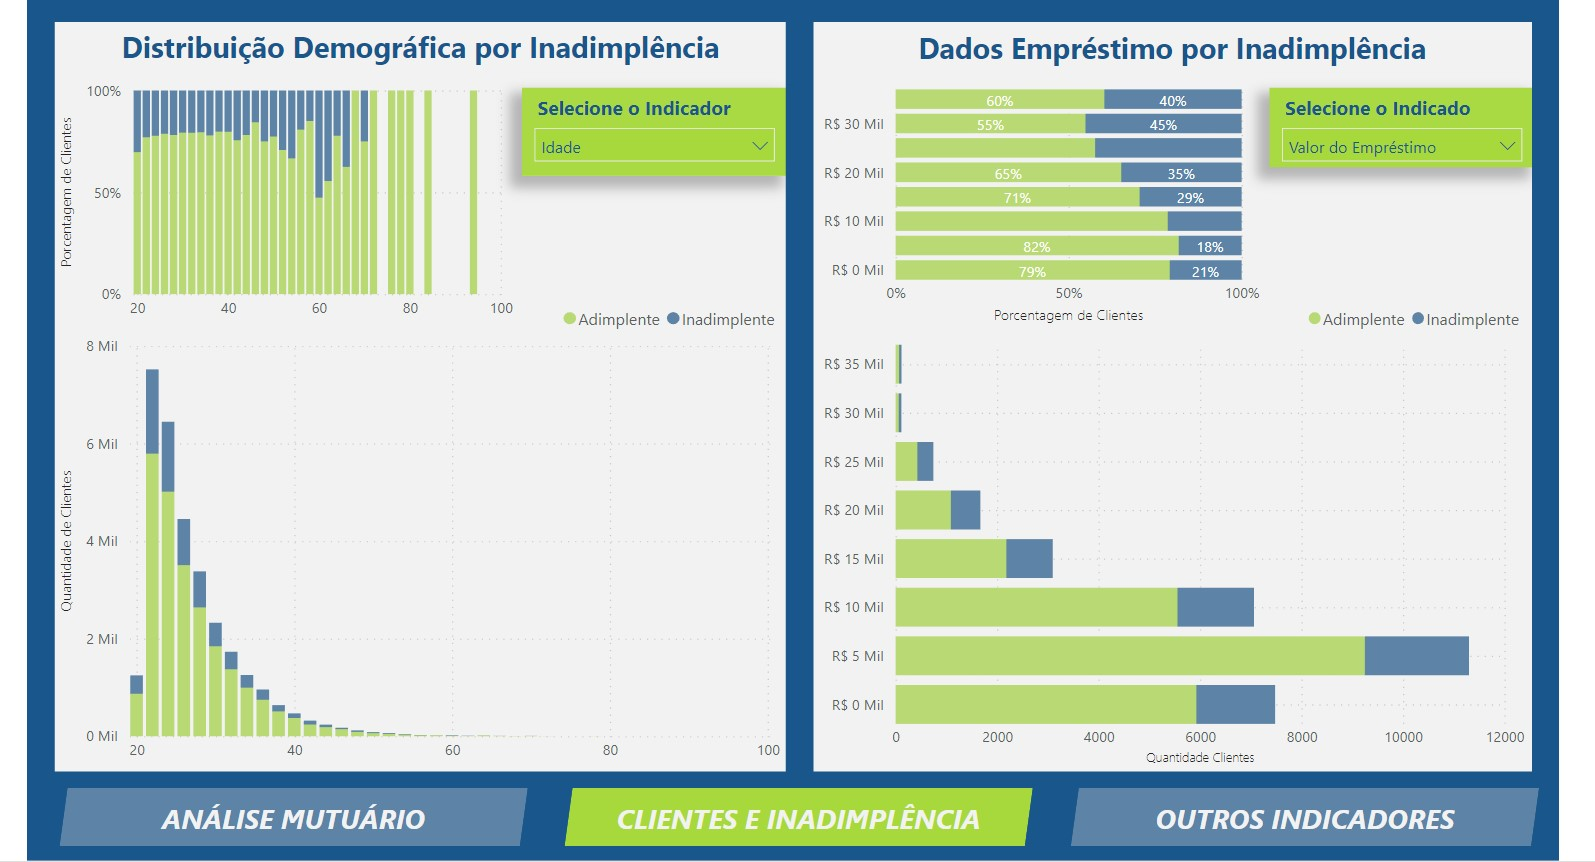

This screenshot's page, from the dashboard's own definition file:
{"tool":"powerbi","page":{"name":"Clientes e Inadimplência","canvas":[1280,720],"ordinal":2},"visuals":[{"type":"shape","box":[0,645.4,1279.9,74.6],"z":0},{"type":"columnChart","title":"Distribuição Demográfica por Inadimplência","fields":{"Category":["fDadosClientes.score"],"Y":["fDadosClientes.Count_score"],"Series":["fDadosClientes.inadimplente_adimplente"]},"box":[22.9,246,611.5,399.2],"z":1000},{"type":"barChart","fields":{"Category":["fDadosClientes.valor_emprestimo (compartimentos)"],"Y":["fDadosClientes.Count_valor_emprestimo"],"Series":["fDadosClientes.inadimplente_adimplente"]},"box":[657.1,246,599.6,398.9],"z":2000},{"type":"hundredPercentStackedColumnChart","fields":{"Category":["fDadosClientes.score"],"Y":["fDadosClientes.Count_score"],"Series":["fDadosClientes.inadimplente_adimplente"]},"box":[23.3,62.4,389.1,214.1],"z":3000},{"type":"slicer","title":"Selecione o Indicador","fields":{"Values":["Demografia1.Value4"]},"box":[413.6,74.6,221.5,73.4],"z":4000},{"type":"slicer","fields":{"Values":["Emprestimo_contagem.Value4"]},"box":[1037.7,74.6,221.5,66.1],"z":5000},{"type":"actionButton","title":"índice","box":[26.9,658.9,391.2,48.9],"z":6000},{"type":"actionButton","title":"índice","box":[449.2,658.9,391.2,48.9],"z":7000},{"type":"actionButton","title":"índice","box":[871.6,658.9,391.2,48.9],"z":8000},{"type":"shape","box":[633.9,0,23.3,658.4],"z":9000},{"type":"shape","box":[1256.7,0,23.3,658.4],"z":10000},{"type":"shape","box":[0,0,23.3,658.4],"z":11000},{"type":"shape","box":[0,0,1279.6,19.3],"z":12000},{"type":"textbox","box":[22.9,19.3,611.5,43.4],"z":13000},{"type":"hundredPercentStackedBarChart","fields":{"Category":["fDadosClientes.valor_emprestimo (compartimentos)"],"Y":["fDadosClientes.Count_valor_emprestimo"],"Series":["fDadosClientes.inadimplente_adimplente"]},"box":[657.1,62.4,378.1,214.1],"z":14000},{"type":"textbox","box":[657.1,19.6,599.6,44.1],"z":15000}]}

Visuals, with their boxes on the page's 1280x720 design canvas (x1, y1, x2, y2). These are canvas units, not pixel positions in the 1595x862 screenshot, which may show the page scaled, cropped or inside an application window:
shape: l=0, t=645, r=1280, b=720
"Distribuição Demográfica por Inadimplência" columnChart: l=23, t=246, r=634, b=645
barChart - fDadosClientes.valor_emprestimo (compartimentos) x fDadosClientes.Count_valor_emprestimo: l=657, t=246, r=1257, b=645
hundredPercentStackedColumnChart - fDadosClientes.score x fDadosClientes.Count_score: l=23, t=62, r=412, b=276
"Selecione o Indicador" slicer: l=414, t=75, r=635, b=148
slicer - Emprestimo_contagem.Value4: l=1038, t=75, r=1259, b=141
"índice" actionButton: l=27, t=659, r=418, b=708
"índice" actionButton: l=449, t=659, r=840, b=708
"índice" actionButton: l=872, t=659, r=1263, b=708
shape: l=634, t=0, r=657, b=658
shape: l=1257, t=0, r=1280, b=658
shape: l=0, t=0, r=23, b=658
shape: l=0, t=0, r=1280, b=19
textbox: l=23, t=19, r=634, b=63
hundredPercentStackedBarChart - fDadosClientes.valor_emprestimo (compartimentos) x fDadosClientes.Count_valor_emprestimo: l=657, t=62, r=1035, b=276
textbox: l=657, t=20, r=1257, b=64
